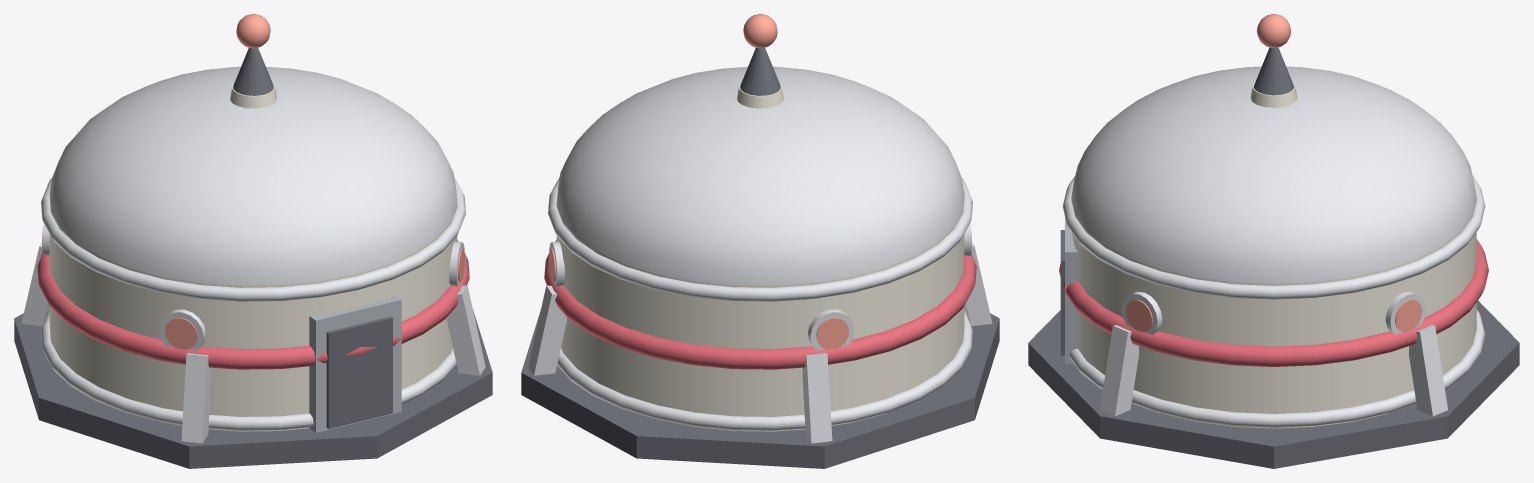
The model's file is ic_hub_rival.glb.
The picture shows the model from 3 angles, left to right: view 1: azimuth 30°, elevation 25°; view 2: azimuth 150°, elevation 25°; view 3: azimuth 270°, elevation 25°; orthographic projection.
Parts seen in each view (by area): view 1: ic_hub_rival; view 2: ic_hub_rival; view 3: ic_hub_rival.
Part boxes in pixels (<box>): ic_hub_rival: <box>14,14,492,468</box>; ic_hub_rival: <box>521,14,999,468</box>; ic_hub_rival: <box>1028,14,1519,468</box>.
Size of the model in its own units: 8 by 6.3 by 8.
